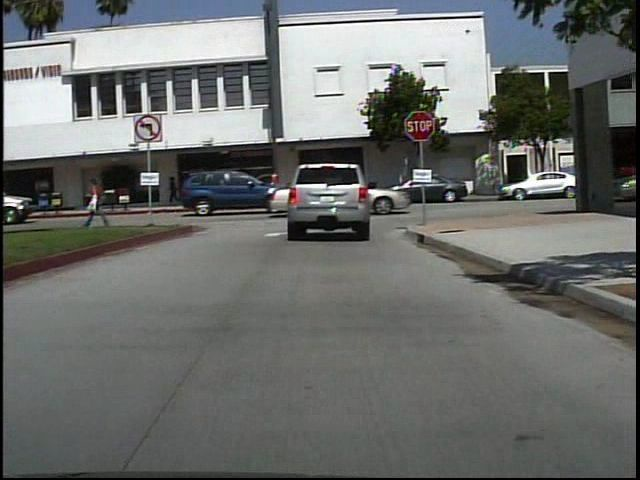person: (298, 163, 328, 232), (82, 174, 117, 231), (191, 172, 209, 207)
